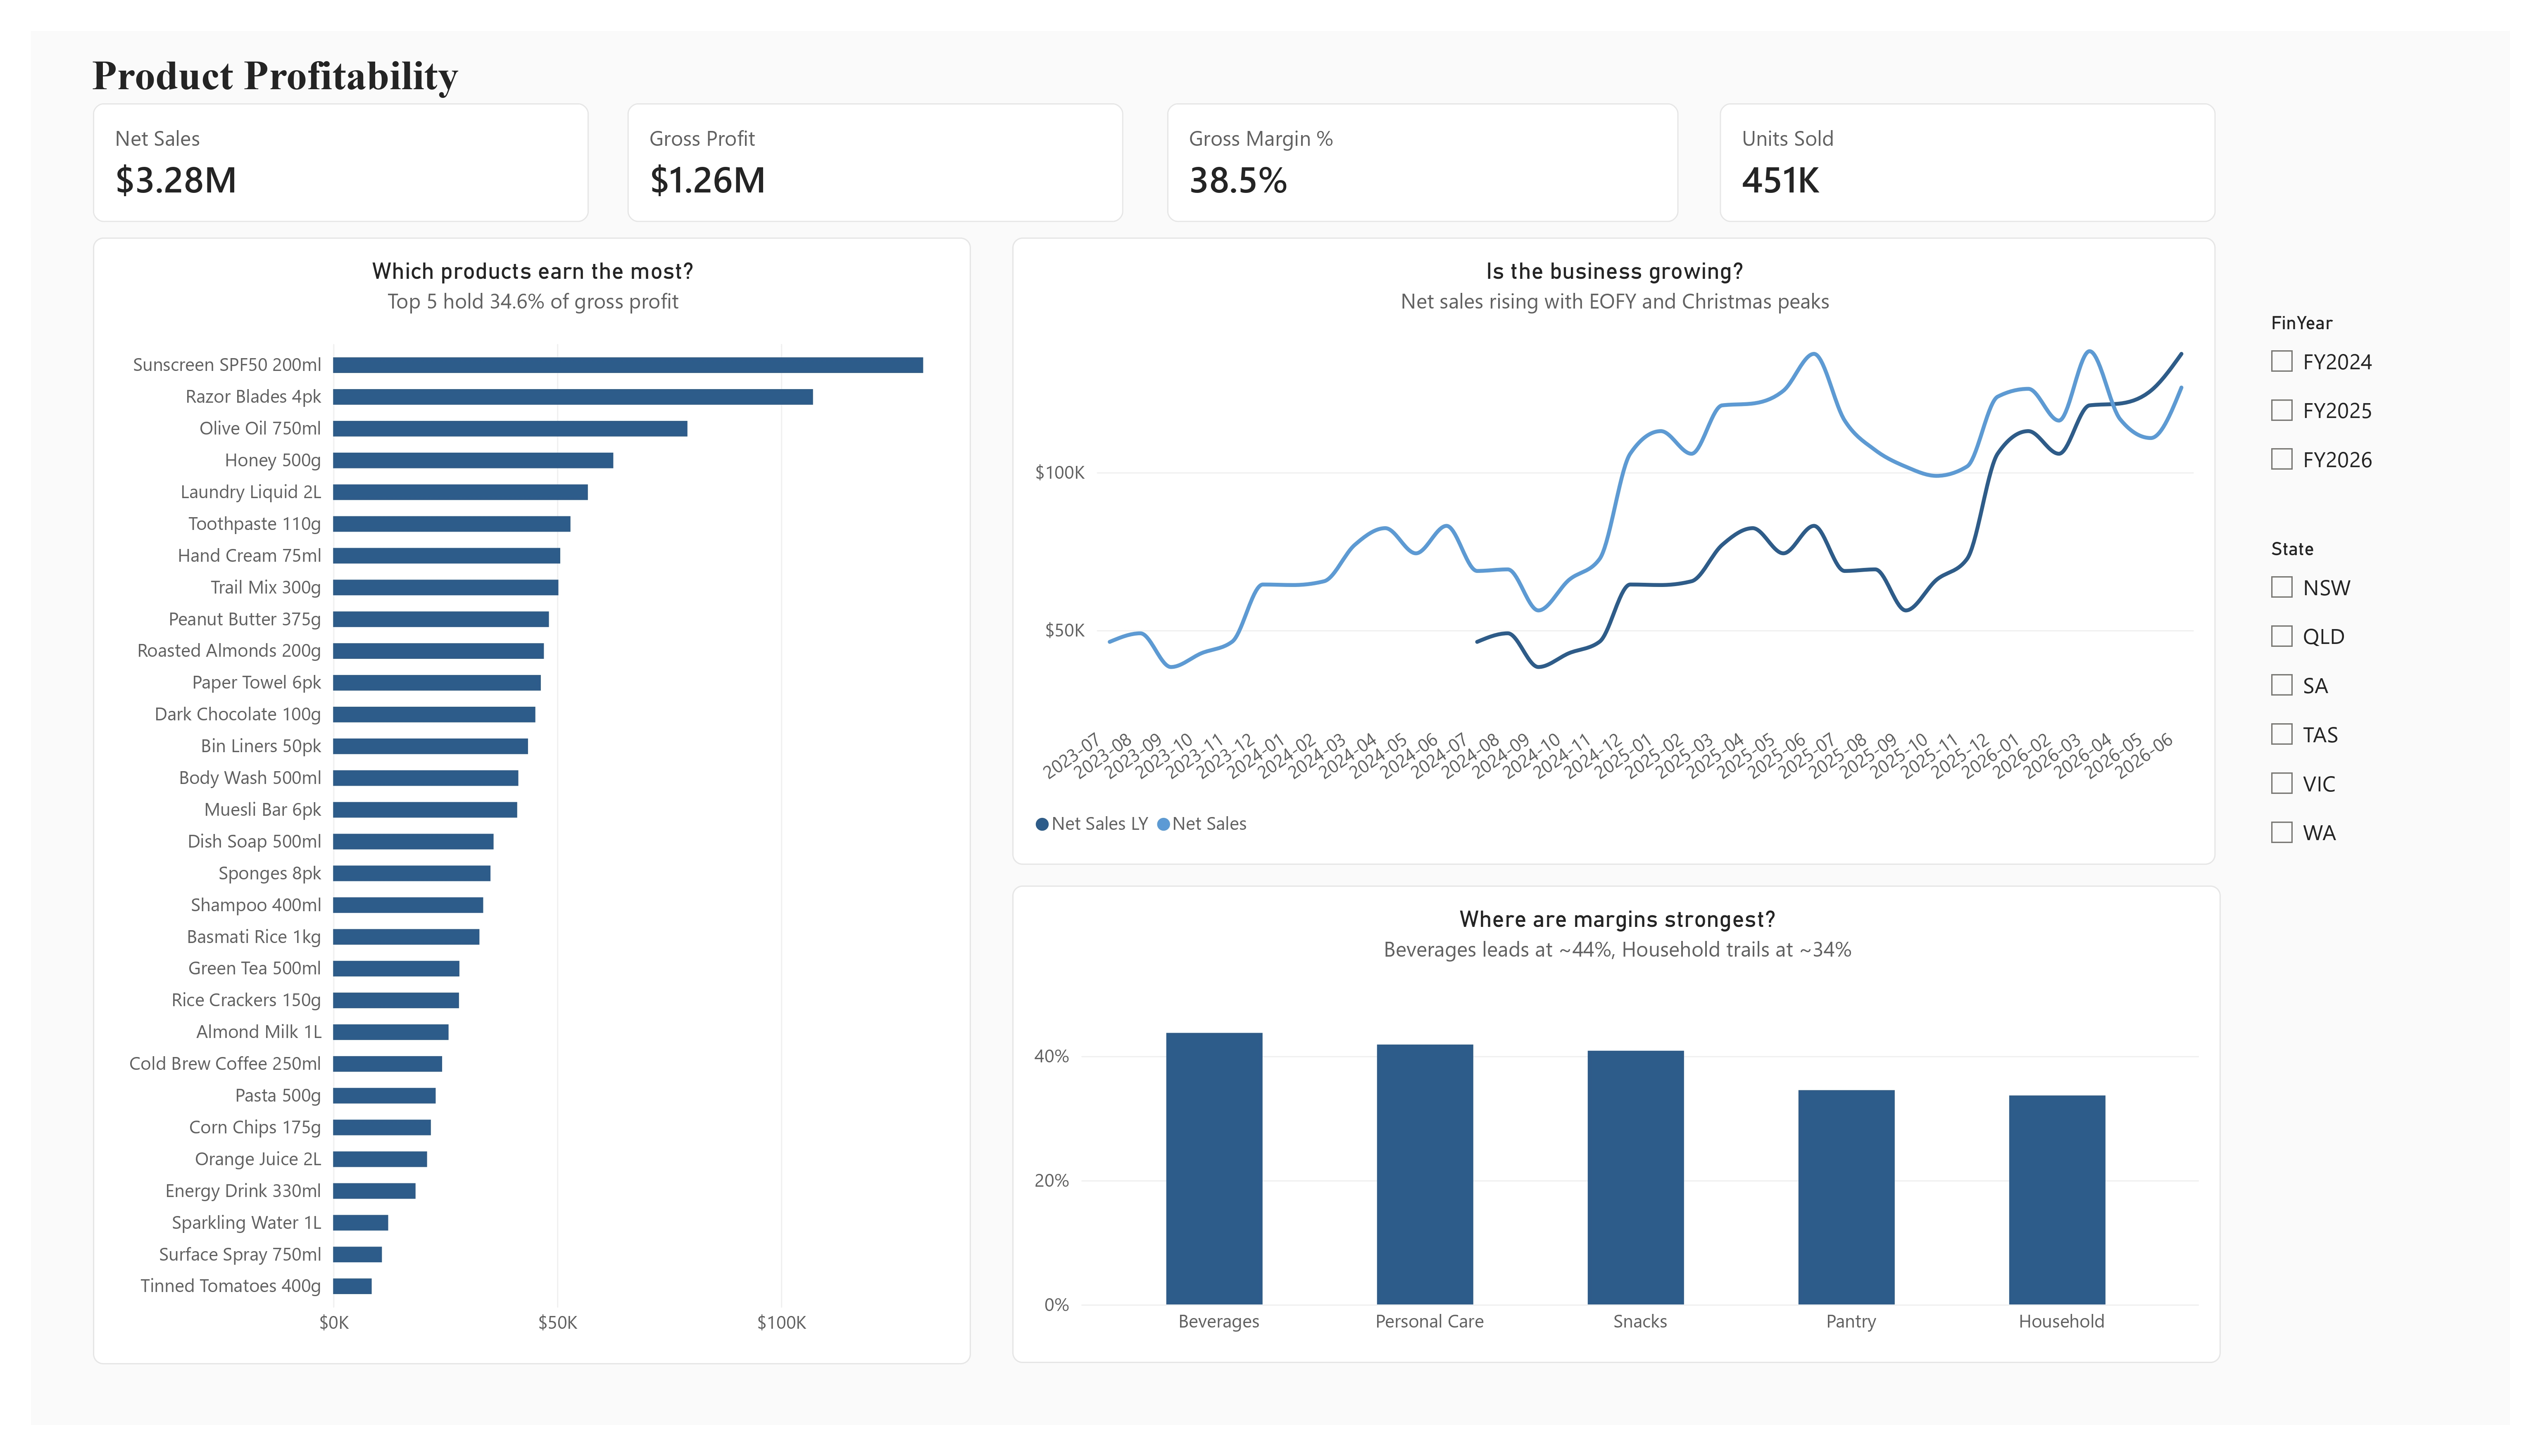

What the dashboard file says about the page in this screenshot:
{"tool":"powerbi","page":{"name":"Profitability","canvas":[1920,1080],"ordinal":0},"visuals":[{"type":"cardVisual","fields":{"Data":["_Measures.Net Sales"]},"box":[48,56,384,92],"z":0},{"type":"cardVisual","fields":{"Data":["_Measures.Gross Profit"]},"box":[462,56,384,92],"z":1000},{"type":"cardVisual","fields":{"Data":["_Measures.Gross Margin %"]},"box":[880,56,396,92],"z":2000},{"type":"cardVisual","fields":{"Data":["_Measures.Units Sold"]},"box":[1308,56,384,92],"z":3000},{"type":"barChart","title":"Which products earn the most?","fields":{"Category":["DimProduct.ProductName"],"Y":["_Measures.Gross Profit"]},"box":[47.5,160,680,872.5],"z":4000},{"type":"lineChart","title":"\tIs the business growing?","fields":{"Category":["DimDate.YearMonth"],"Y":["_Measures.Net Sales LY","_Measures.Net Sales"]},"box":[760,160,932,486],"z":5000},{"type":"clusteredColumnChart","title":"Where are margins strongest?","fields":{"Category":["DimProduct.Category"],"Y":["_Measures.Gross Margin %"]},"box":[760,662,936,370],"z":6000},{"type":"slicer","fields":{"Values":["DimDate.FinYear"]},"box":[1727.1,217.9,158,142],"z":7000},{"type":"slicer","fields":{"Values":["DimCustomer.State"]},"box":[1727.1,392.7,158.3,255],"z":8000},{"type":"textbox","box":[47.1,15.7,1212.9,40],"z":9000}]}

Visuals, with their boxes on the page's 1920x1080 design canvas (x1, y1, x2, y2). These are canvas units, not pixel positions in the 2541x1456 screenshot, which may show the page scaled, cropped or inside an application window:
cardVisual - _Measures.Net Sales: crop(48, 56, 432, 148)
cardVisual - _Measures.Gross Profit: crop(462, 56, 846, 148)
cardVisual - _Measures.Gross Margin %: crop(880, 56, 1276, 148)
cardVisual - _Measures.Units Sold: crop(1308, 56, 1692, 148)
"Which products earn the most?" barChart: crop(48, 160, 728, 1032)
"	Is the business growing?" lineChart: crop(760, 160, 1692, 646)
"Where are margins strongest?" clusteredColumnChart: crop(760, 662, 1696, 1032)
slicer - DimDate.FinYear: crop(1727, 218, 1885, 360)
slicer - DimCustomer.State: crop(1727, 393, 1885, 648)
textbox: crop(47, 16, 1260, 56)
